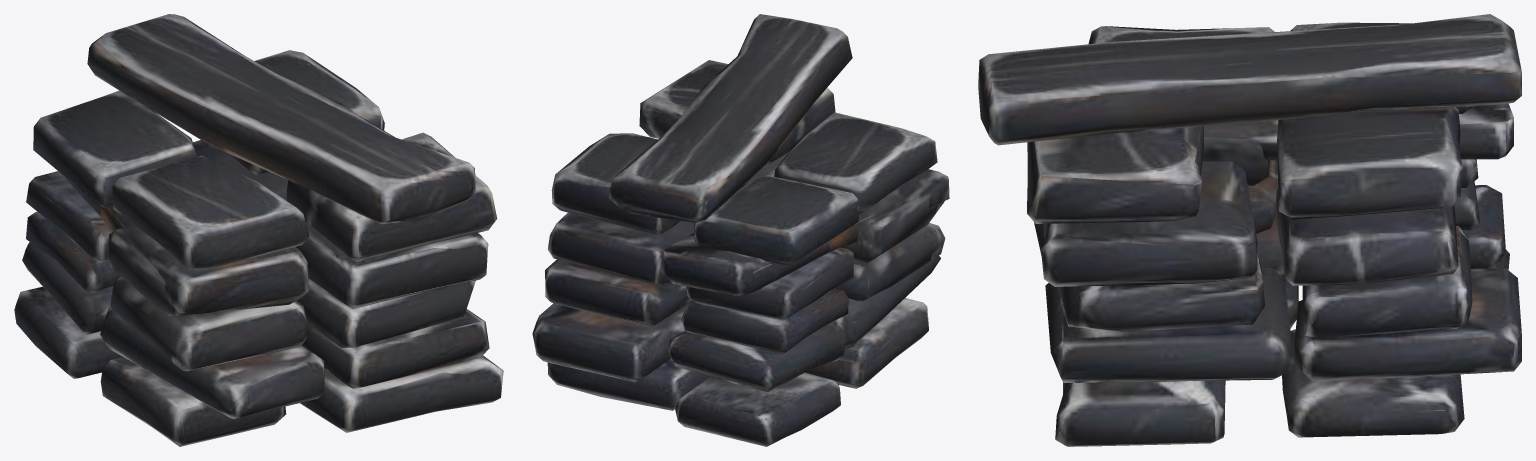
File: fj_lingotes.glb
The picture shows the model from 3 angles, left to right: view 1: azimuth 30°, elevation 25°; view 2: azimuth 150°, elevation 25°; view 3: azimuth 270°, elevation 25°; orthographic projection. The views are drawn at different scales.
Visible parts, largest first — view 1: Mesh_0.4231; view 2: Mesh_0.4231; view 3: Mesh_0.4231.
Boxes of the visible parts, box(x1,y1,x2,y2) form: Mesh_0.4231: box(14, 14, 503, 446); Mesh_0.4231: box(532, 14, 949, 446); Mesh_0.4231: box(978, 14, 1521, 446).
Size of the model in its own units: 0.2072 by 0.1755 by 0.2688.
1 material, 1 textured.
